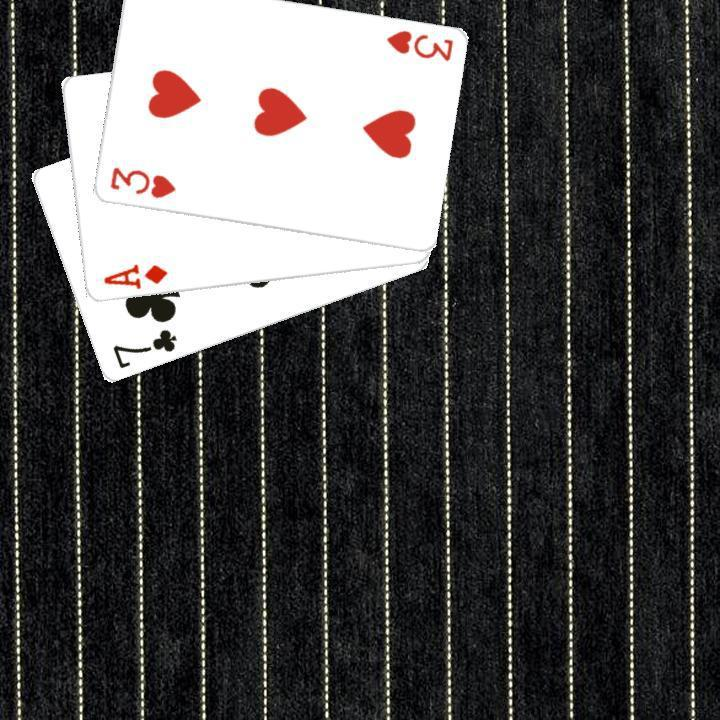3: (381, 26, 454, 64), (105, 163, 177, 201)
7: (108, 325, 179, 371)
A: (99, 260, 169, 292)
